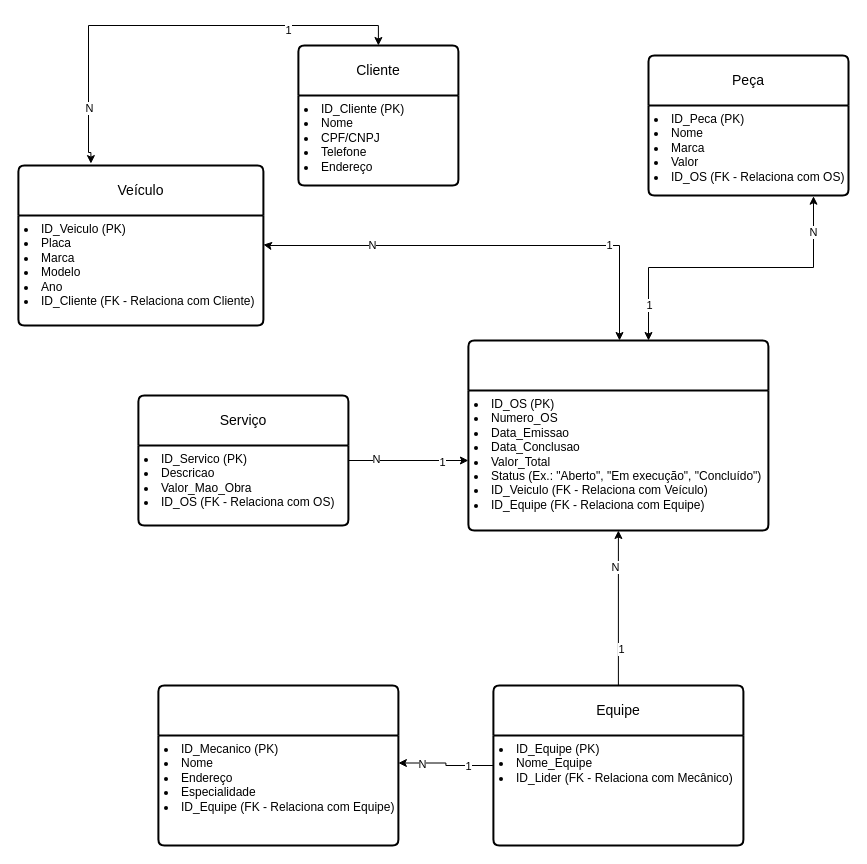
Some shapes in this 867 by 864 pixel diagram are drawn without their labels. Each missing label, with the box of its shape:
Mecânico: (157, 684, 399, 846)
OrdemDeServiço: (467, 339, 769, 531)
